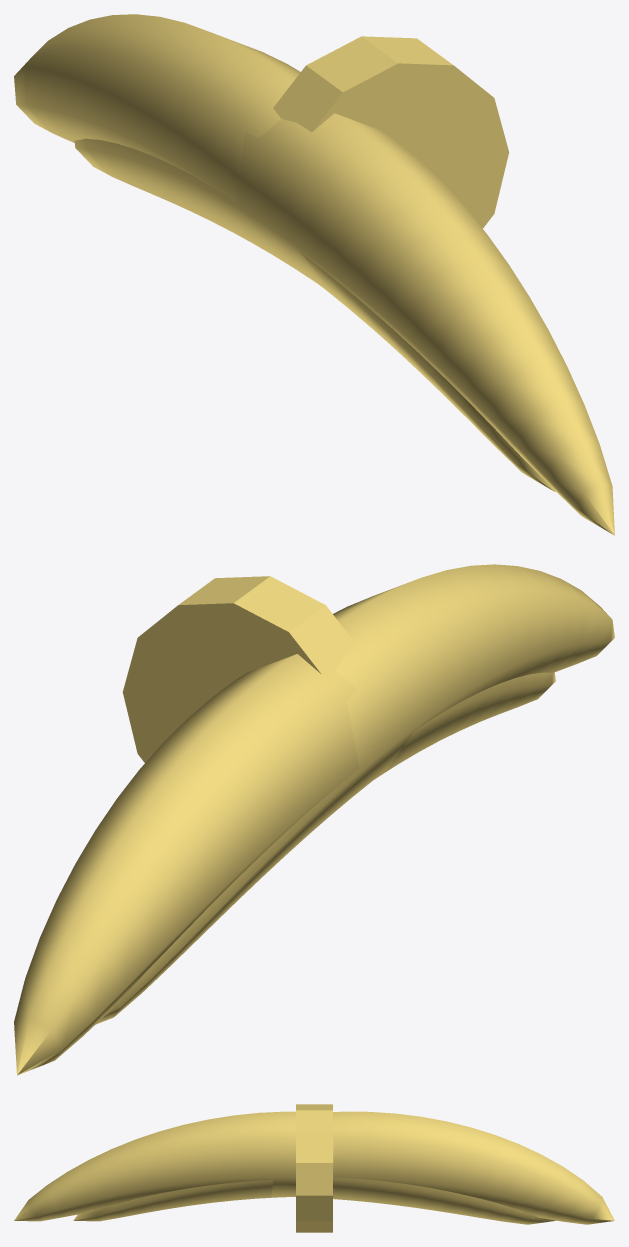
File: BananaShotgun.fbx
3 renders of one model, top to bottom at view 1: azimuth 30°, elevation 25°; view 2: azimuth 150°, elevation 25°; view 3: azimuth 270°, elevation 25°, orthographic. The views are drawn at different scales.
Visible parts, largest first — view 1: BananaShotgun; view 2: BananaShotgun; view 3: BananaShotgun.
Boxes of the visible parts, x1=… form: BananaShotgun: x1=14, y1=14, x2=614, y2=535; BananaShotgun: x1=14, y1=564, x2=614, y2=1075; BananaShotgun: x1=14, y1=1104, x2=614, y2=1232.
Size of the model in its own units: 11.16 by 11.4 by 48.59.
